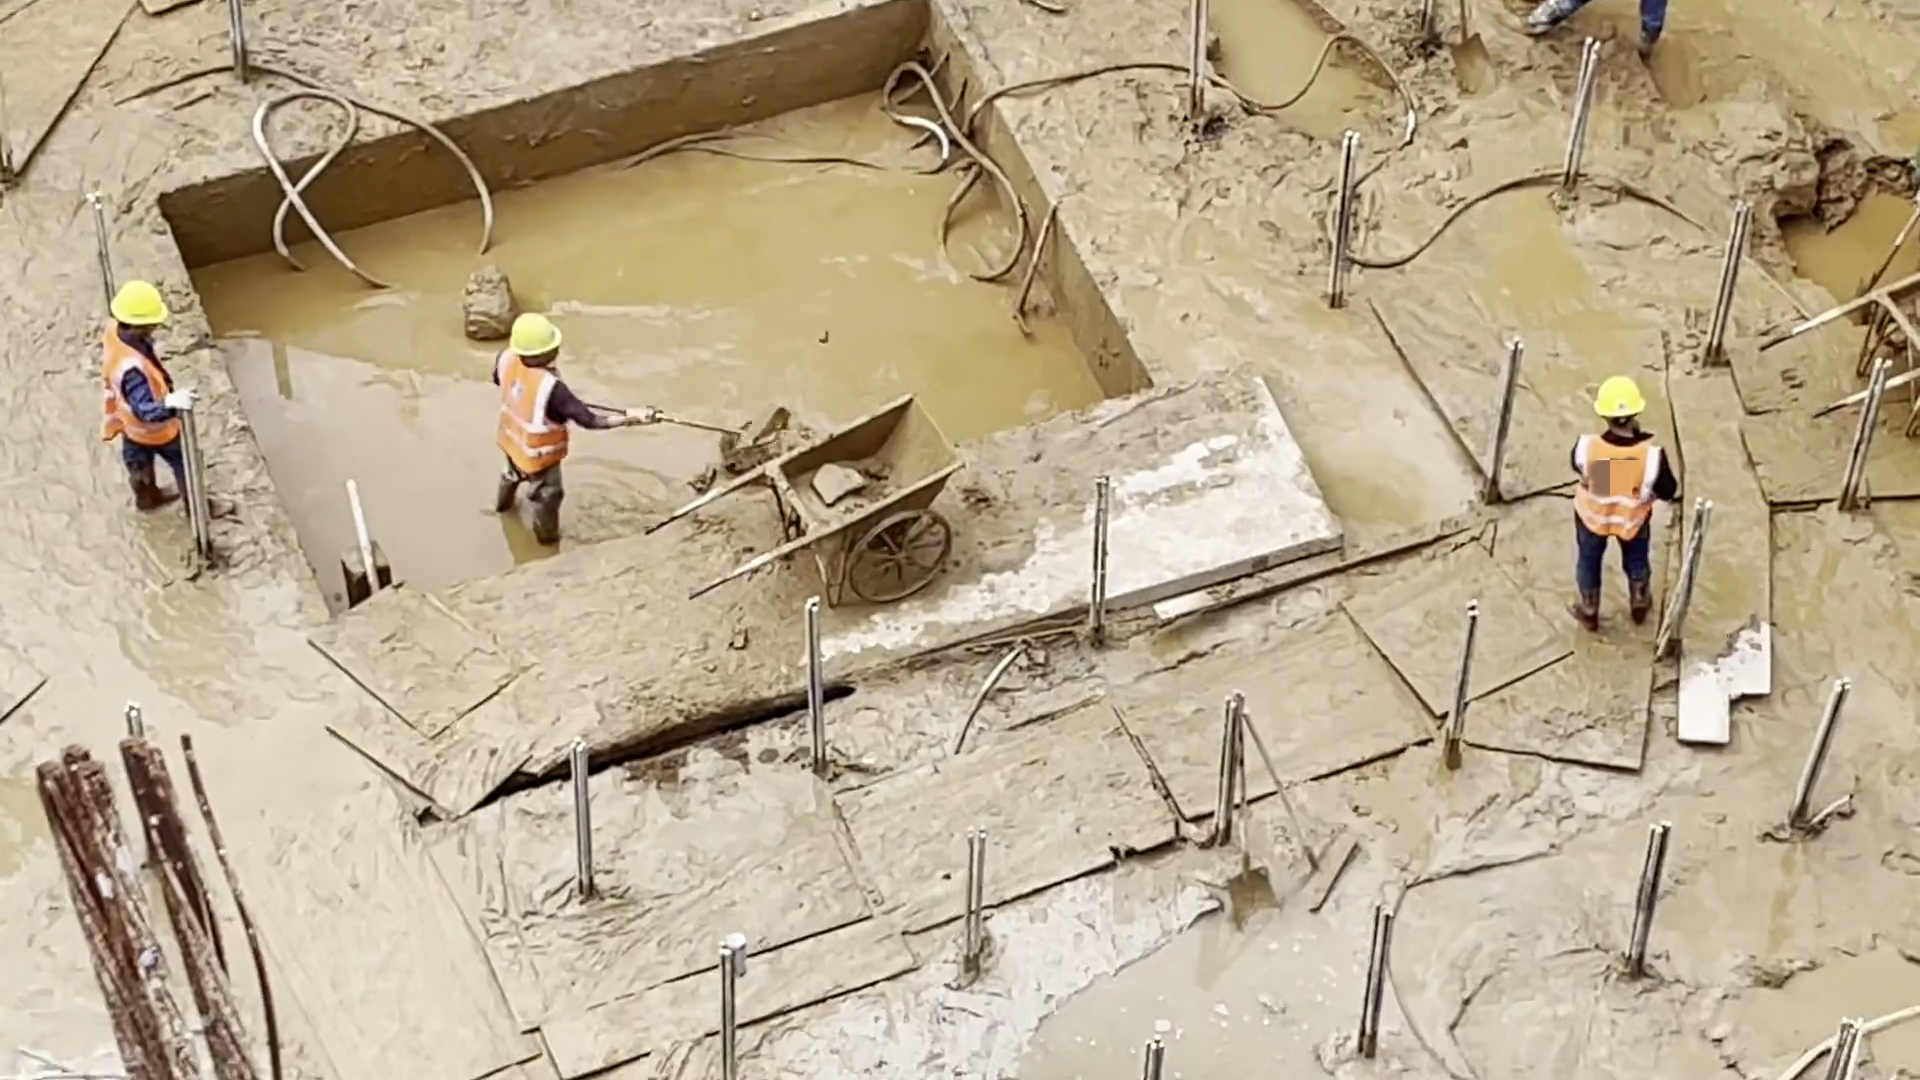handcart: (653, 394, 962, 610)
helmet: (509, 308, 564, 361), (112, 276, 168, 327), (1594, 374, 1647, 418)
person: (480, 308, 668, 548), (102, 281, 233, 516), (1575, 372, 1678, 634)
vest: (1576, 425, 1664, 541), (105, 328, 181, 448), (504, 356, 568, 479)
